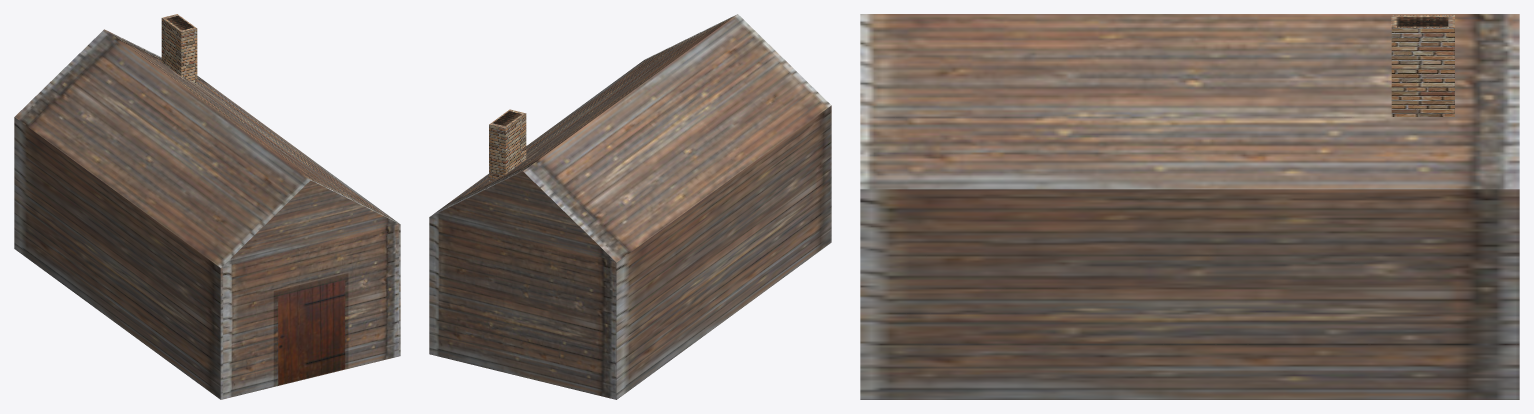
Rendered from LogCabinLong36.FBX.
3 renders of one model, left to right at view 1: azimuth 30°, elevation 25°; view 2: azimuth 150°, elevation 25°; view 3: azimuth 270°, elevation 25°, orthographic. The views are drawn at different scales.
Parts seen in each view (by area): view 1: Cabin_Part_34, Cabin_Part_36, Cabin_Part_31, Cabin_Part_33, Cabin_Part_10, Cabin_Part_14, Cabin_Part_32, Cabin_Part_15, Cabin_Part_35, Cabin_Part_22, Cabin_Part_16, Cabin_Part_2 (+13 smaller); view 2: Cabin_Part_36, Cabin_Part_33, Cabin_Part_3, Cabin_Part_19, Cabin_Part_13, Cabin_Part_10, Cabin_Part_14, Cabin_Part_28, Cabin_Part_15, Cabin_Part_32, Cabin_Part_35, Cabin_Part_22 (+16 smaller); view 3: Cabin_Part_8, Cabin_Part_7, Cabin_Part_26, Cabin_Part_12, Cabin_Part_29, Cabin_Part_25, Cabin_Part_11, Cabin_Part_31, Cabin_Part_24, Cabin_Part_21, Cabin_Part_20, Cabin_Part_19 (+5 smaller).
Boxes of the visible parts, x1,y1,x2,y2 form: Cabin_Part_34: (243,152,328,394); Cabin_Part_36: (164,157,266,399); Cabin_Part_31: (274,153,400,373); Cabin_Part_33: (101,152,271,303); Cabin_Part_10: (107,82,220,176); Cabin_Part_14: (14,75,75,209); Cabin_Part_32: (107,299,202,386); Cabin_Part_15: (14,150,71,260); Cabin_Part_35: (103,226,178,316); Cabin_Part_22: (89,14,197,101); Cabin_Part_16: (31,210,99,311); Cabin_Part_2: (82,121,138,286); Cabin_Part_36: (703,49,831,256); Cabin_Part_33: (698,44,771,320); Cabin_Part_3: (483,160,649,320); Cabin_Part_19: (468,156,594,244); Cabin_Part_13: (528,290,629,399); Cabin_Part_10: (597,83,702,190); Cabin_Part_14: (563,217,680,291); Cabin_Part_28: (429,226,487,318); Cabin_Part_15: (607,272,676,390); Cabin_Part_32: (713,202,812,328); Cabin_Part_35: (709,148,787,331); Cabin_Part_22: (489,109,613,192); Cabin_Part_8: (933,137,1275,399); Cabin_Part_7: (922,42,1197,319); Cabin_Part_26: (1189,236,1519,399); Cabin_Part_12: (860,14,1066,360); Cabin_Part_29: (1134,108,1331,399); Cabin_Part_25: (1311,117,1519,266); Cabin_Part_11: (1111,14,1293,149); Cabin_Part_31: (860,15,981,399); Cabin_Part_24: (1416,36,1519,174); Cabin_Part_21: (1309,38,1428,147); Cabin_Part_20: (1288,14,1363,112); Cabin_Part_19: (1455,14,1519,115).
Size of the model in its own units: 8 by 9.14 by 15.91.
